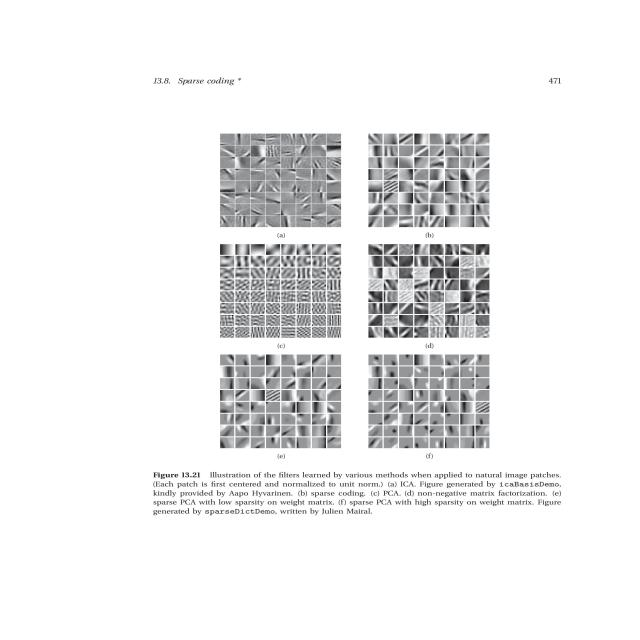diagram: (108, 119, 604, 526)
